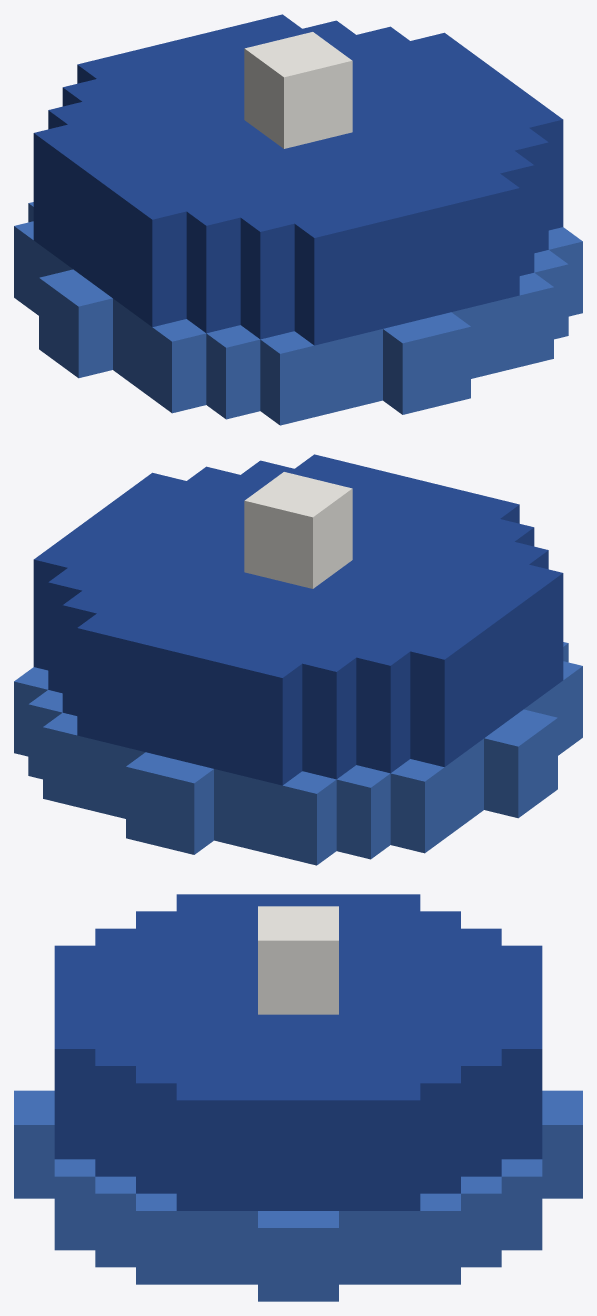
Rendered from beanie.glb.
3 views of the same model, one above another, from view 1: azimuth 30°, elevation 25°; view 2: azimuth 150°, elevation 25°; view 3: azimuth 270°, elevation 25° (orthographic). The views are drawn at different scales.
Parts seen in each view (by area): view 1: beanie; view 2: beanie; view 3: beanie.
Part boxes in pixels (bbox=[...]): beanie: bbox=[14, 14, 582, 425]; beanie: bbox=[14, 454, 582, 865]; beanie: bbox=[14, 894, 582, 1301].
Size of the model in its own units: 0.7 by 0.35 by 0.7.
Materials: 1 (1 with a texture image).
